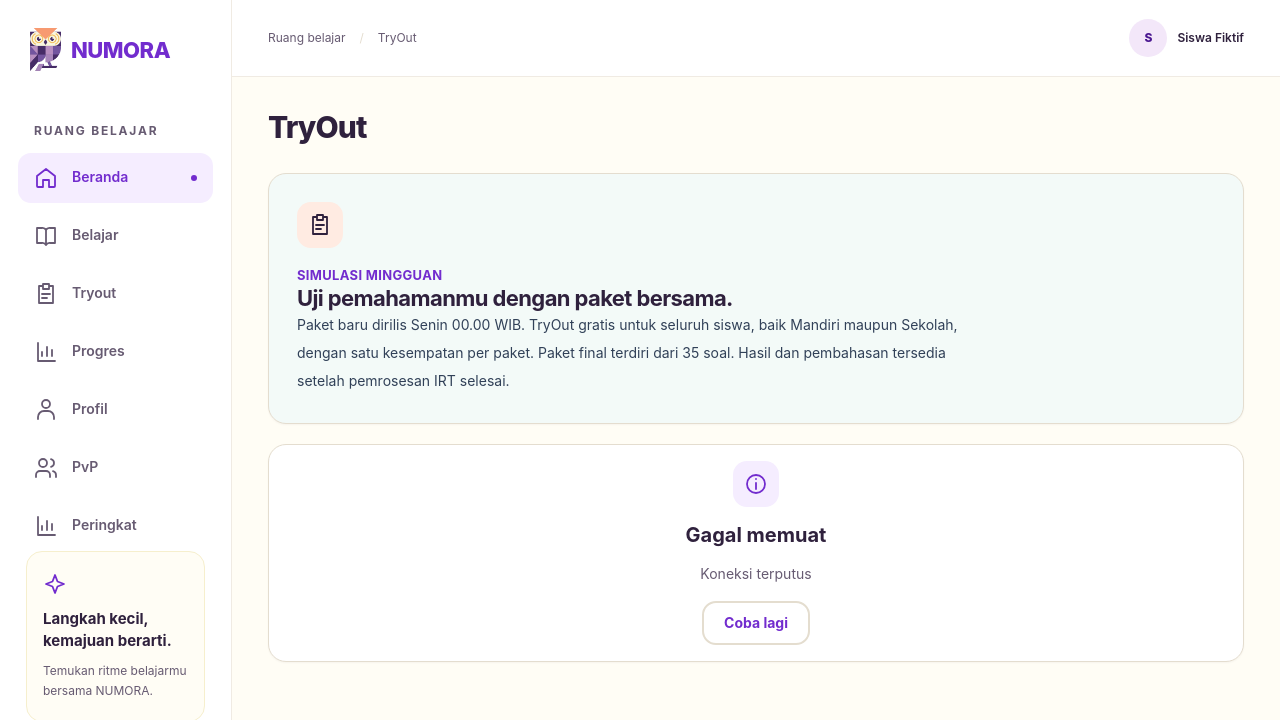
it: responsive learning composition › allows retry after a Tryout network error
Check: the text "Koneksi terputus" is shown, box [700,563,812,585]
What coordinates should you click on to do the following:
click the button "Coba lagi"
I would click on:
 (756, 623)
Its box is [702,601,810,645].
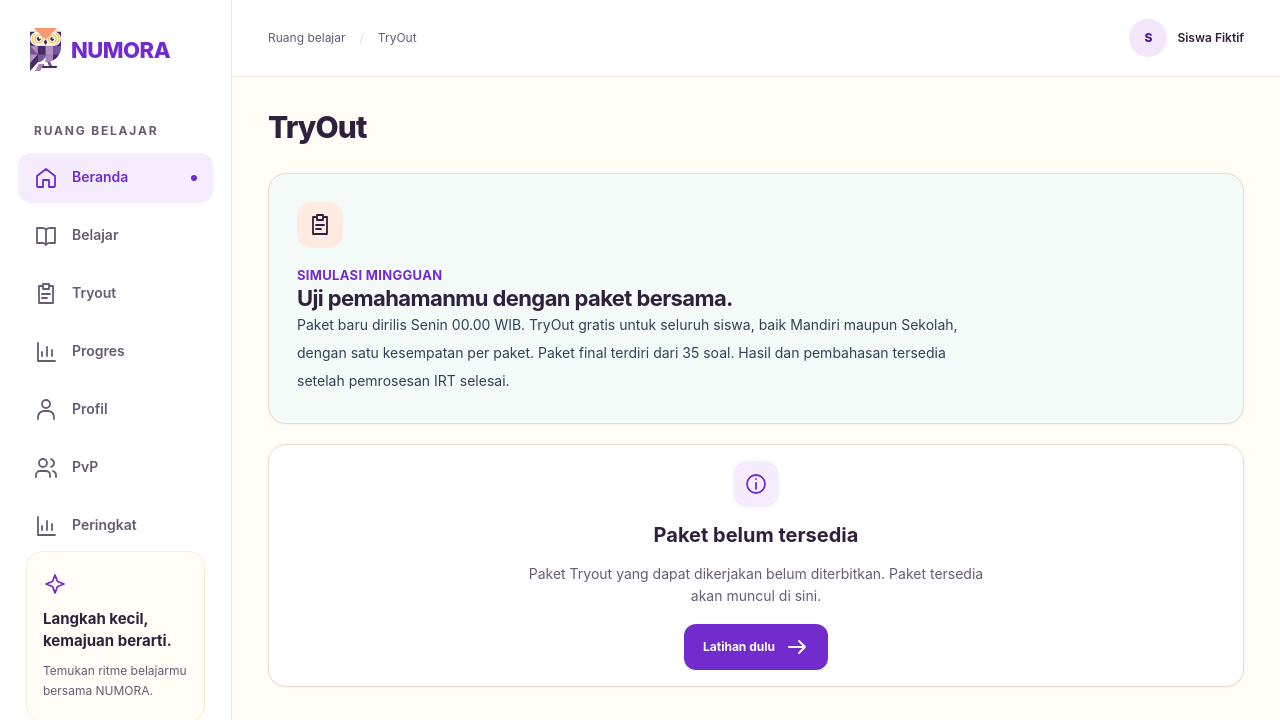
Check: the heading "Paket belum tersedia" is shown, box [654,523,858,547]
